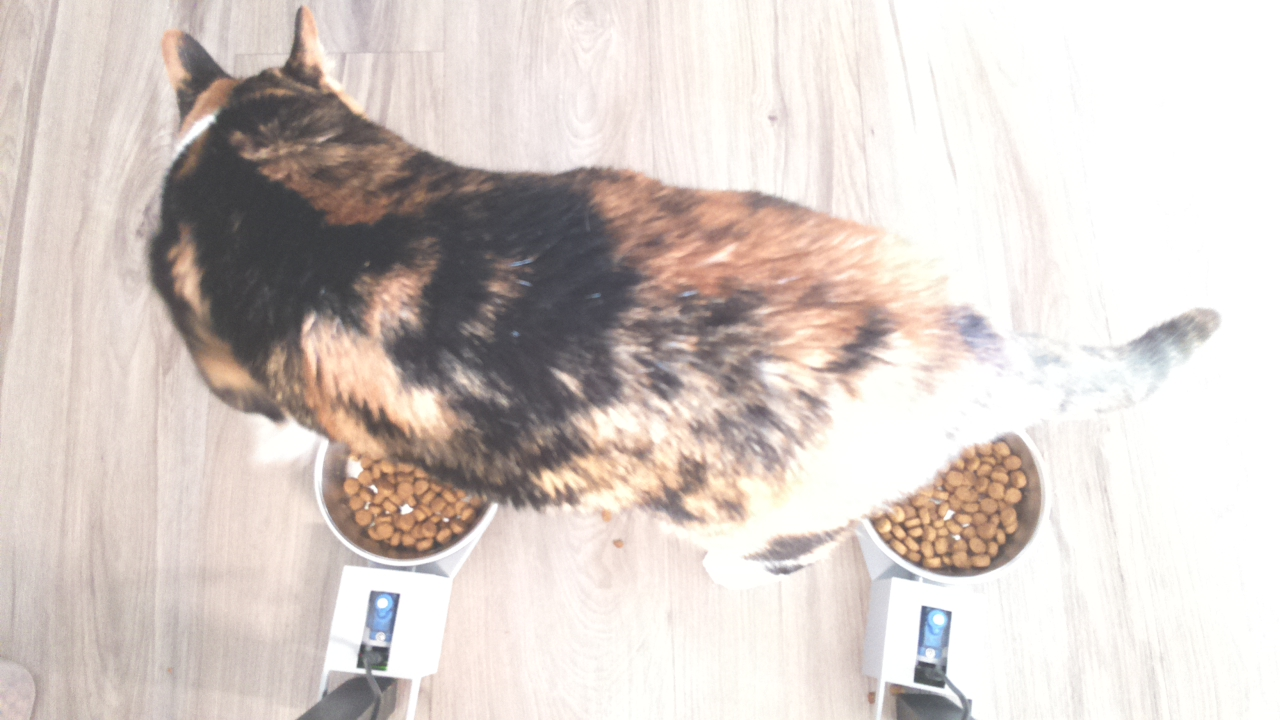bella: (142, 5, 382, 190)
open_bowl: (856, 433, 1051, 583), (314, 434, 507, 568)
